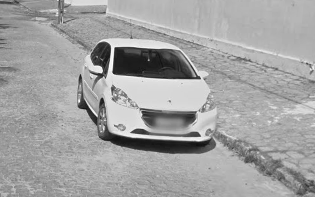car: (71, 17, 218, 146)
